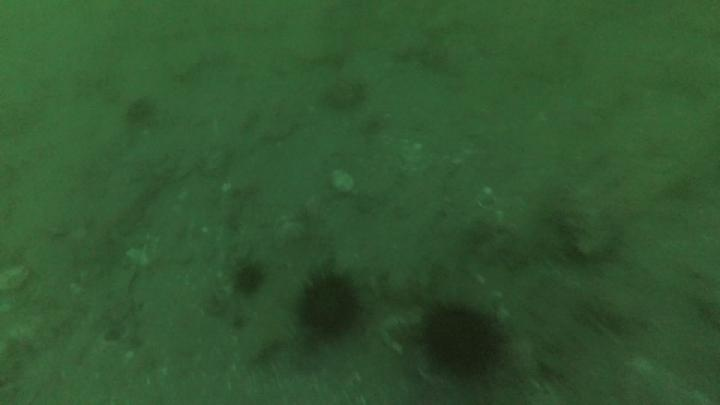echinus: (419, 302, 507, 380), (294, 268, 364, 343), (230, 260, 267, 298), (123, 95, 160, 129)
